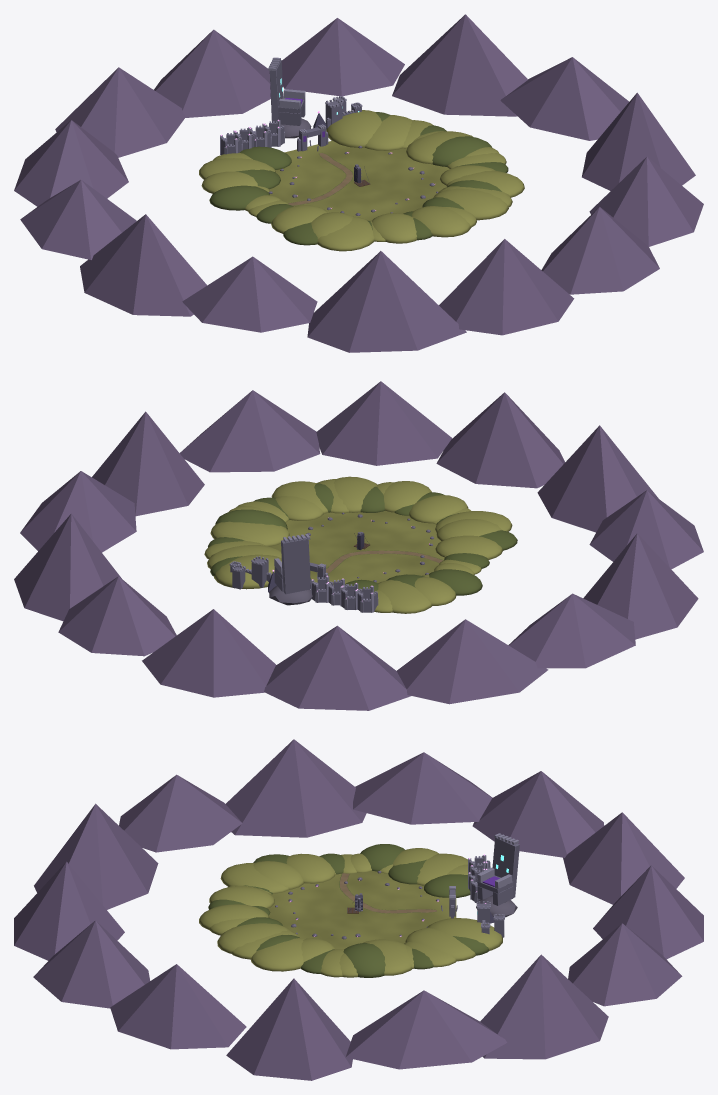
The model's file is fortress.glb.
The picture shows the model from 3 angles, top to bottom: view 1: azimuth 30°, elevation 25°; view 2: azimuth 150°, elevation 25°; view 3: azimuth 270°, elevation 25°; orthographic projection.
Visible parts, largest first — view 1: hl_hills, hl_ground, hl_fortress, hl_road; view 2: hl_hills, hl_ground, hl_fortress, hl_road; view 3: hl_hills, hl_ground, hl_fortress, hl_road.
Part boxes in pixels (<box>): hl_hills: <box>14,14,703,352</box>; hl_ground: <box>269,140,449,220</box>; hl_fortress: <box>220,57,362,154</box>; hl_road: <box>288,152,353,205</box>; hl_hills: <box>14,381,703,710</box>; hl_ground: <box>270,510,444,584</box>; hl_fortress: <box>229,533,378,612</box>; hl_road: <box>326,550,443,574</box>; hl_hills: <box>14,739,703,1080</box>; hl_ground: <box>268,870,456,949</box>; hl_fortress: <box>441,833,519,937</box>; hl_road: <box>339,873,436,913</box>.
Size of the model in its own units: 354 by 52.88 by 354.
